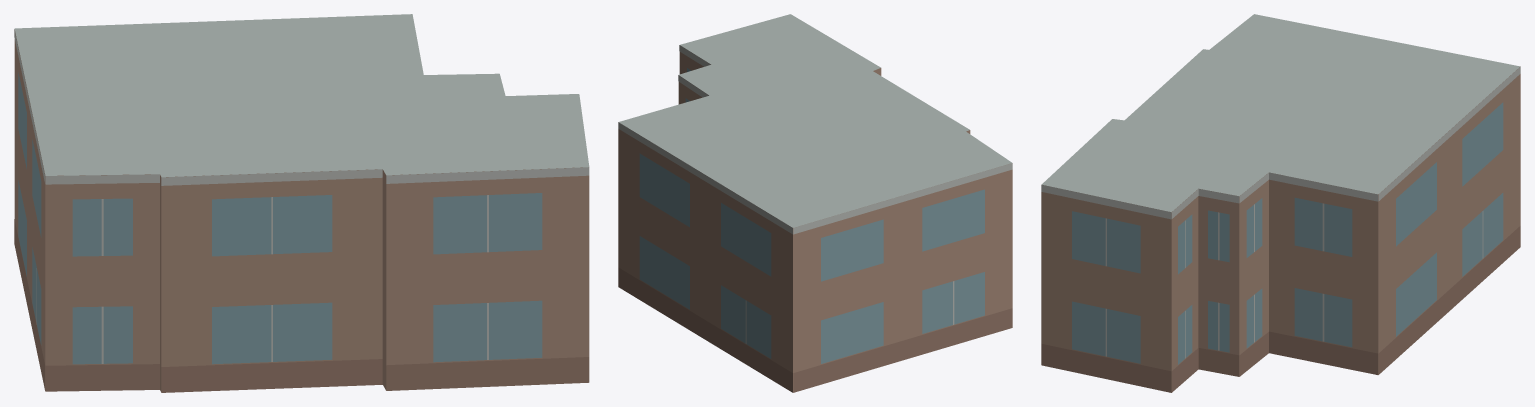
File: survey-upis-32651623.glb
3 renders of one model, left to right at view 1: azimuth 30°, elevation 25°; view 2: azimuth 150°, elevation 25°; view 3: azimuth 270°, elevation 25°, orthographic. The views are drawn at different scales.
Visible parts, largest first — view 1: survey-upis-32651623.tmp; view 2: survey-upis-32651623.tmp; view 3: survey-upis-32651623.tmp.
Boxes of the visible parts, x1,y1,x2,y2 form: survey-upis-32651623.tmp: (14,14,589,392); survey-upis-32651623.tmp: (618,14,1012,392); survey-upis-32651623.tmp: (1041,14,1520,392).
Size of the model in its own units: 14.36 by 6.1 by 14.67.
